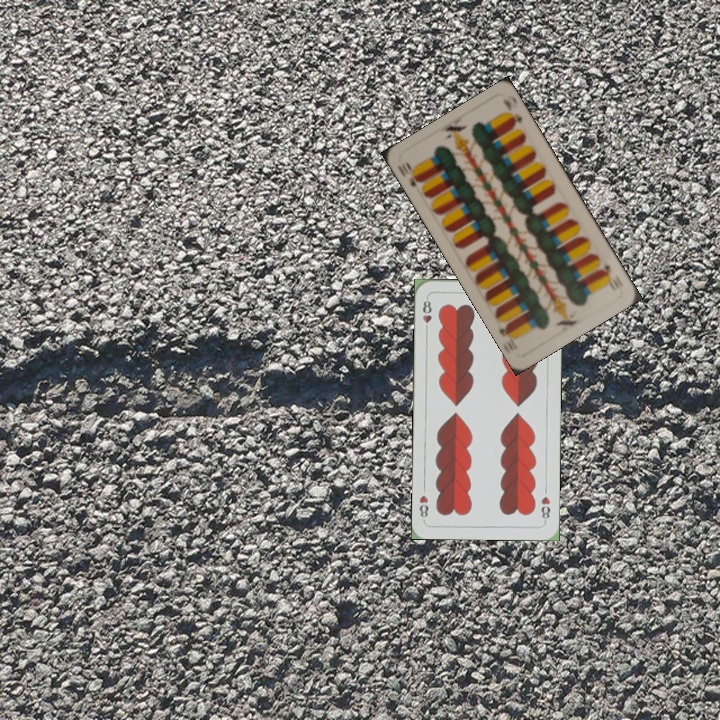E10: (401, 158, 425, 189), (597, 261, 622, 290)
H8: (418, 294, 434, 334), (537, 492, 553, 524)
